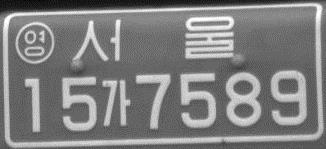1: (20, 76, 47, 134)
5: (59, 74, 98, 134), (178, 71, 216, 129)
7: (131, 72, 171, 132)
8: (224, 70, 262, 128)
9: (269, 68, 309, 128)
가: (100, 77, 132, 130)
서울_D: (69, 13, 236, 64)
영: (13, 22, 57, 64)
